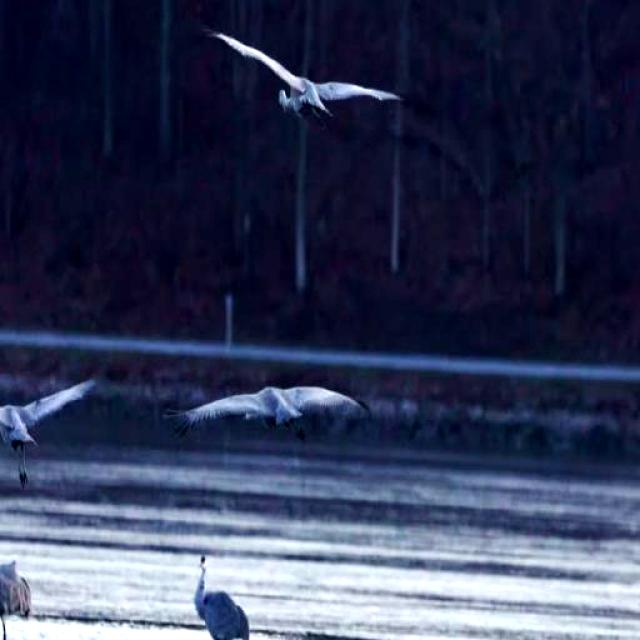airplane: (194, 4, 402, 130), (164, 365, 386, 450), (0, 354, 100, 490), (192, 546, 252, 640), (0, 516, 42, 640)
